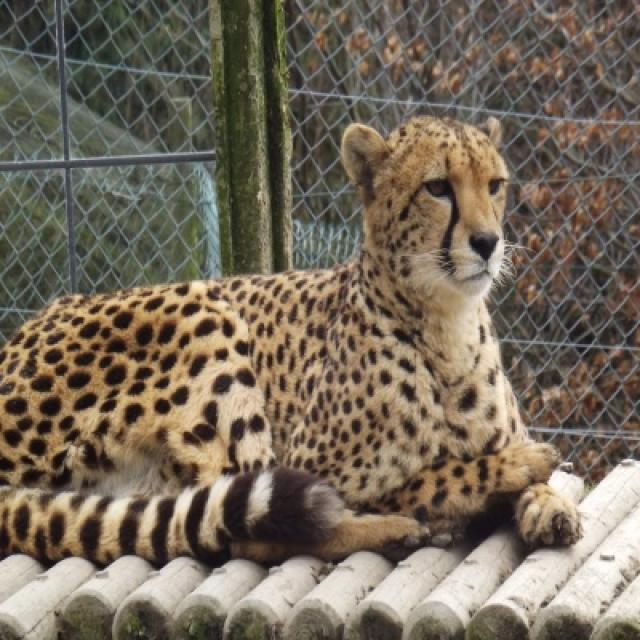Cheetah: (0, 110, 588, 551)
